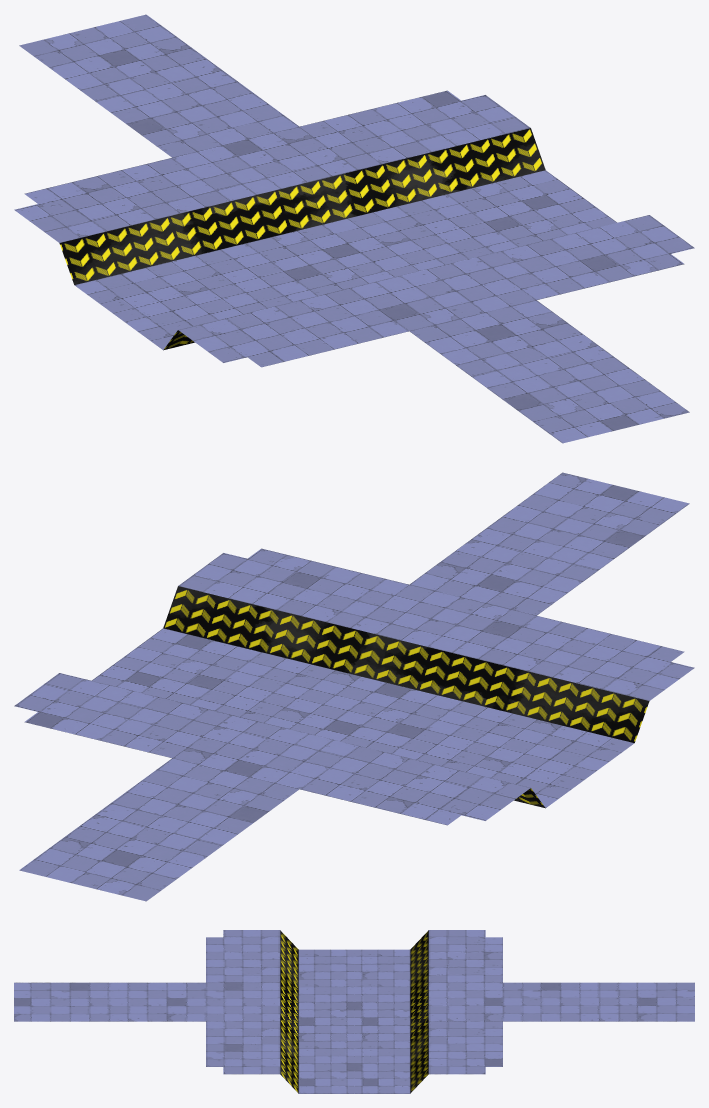
File: Floor_lvl12.fbx
3 renders of one model, top to bottom at view 1: azimuth 30°, elevation 25°; view 2: azimuth 150°, elevation 25°; view 3: azimuth 270°, elevation 25°, orthographic. The views are drawn at different scales.
Visible parts, largest first — view 1: Floor; view 2: Floor; view 3: Floor.
Part boxes in pixels (left/top/right/bottom): Floor: left=14, top=14, right=694, bottom=443; Floor: left=14, top=472, right=694, bottom=901; Floor: left=14, top=930, right=694, bottom=1093.
Bounding box in the file's own units: 34.38 × 2.18 × 68.66.
Materials: 2 (2 with a texture image).
